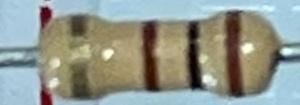Black: (189, 22, 203, 91)
Brown: (226, 11, 244, 95)
Red: (144, 21, 159, 91)
Side-Gold: (71, 16, 92, 98)
